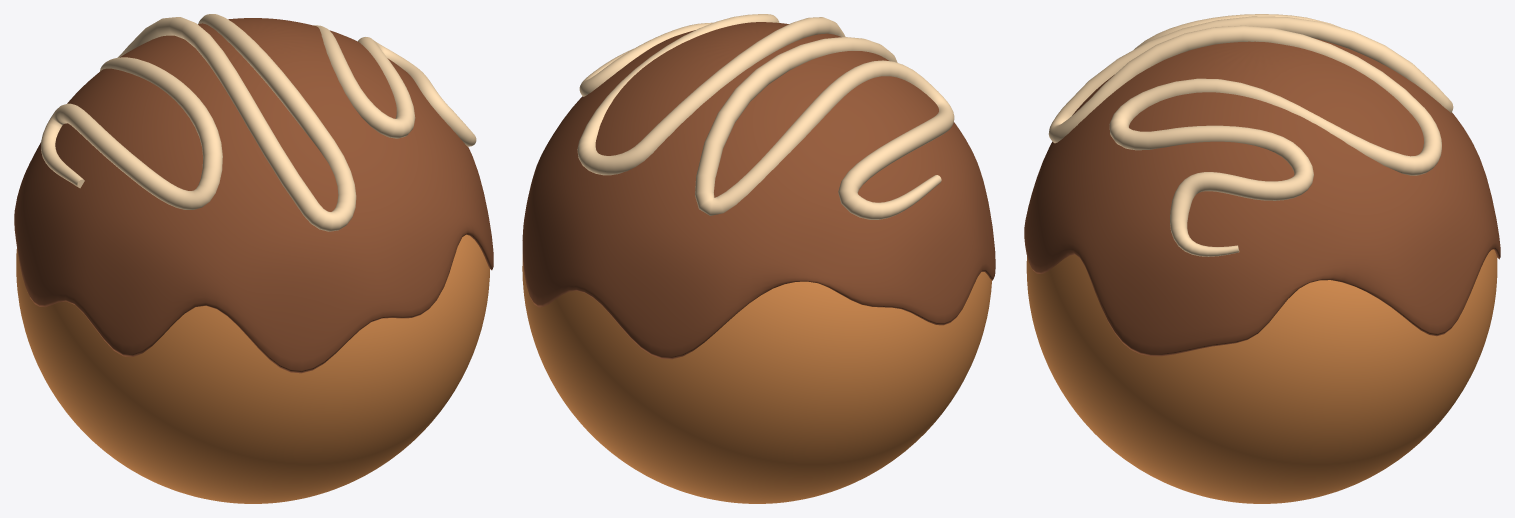
Rendered from takoyaki.glb.
The picture shows the model from 3 angles, left to right: view 1: azimuth 30°, elevation 25°; view 2: azimuth 150°, elevation 25°; view 3: azimuth 270°, elevation 25°; orthographic projection.
Visible parts, largest first — view 1: Top, Sphere, BézierCurve; view 2: Top, Sphere, BézierCurve; view 3: Top, Sphere, BézierCurve.
Part boxes in pixels (x1,y1,x2,y2): Top: [14, 18, 493, 373]; Sphere: [16, 234, 489, 503]; BézierCurve: [41, 14, 476, 231]; Top: [522, 22, 995, 359]; Sphere: [522, 254, 991, 503]; BézierCurve: [577, 14, 954, 219]; Top: [1024, 38, 1500, 356]; Sphere: [1026, 249, 1497, 503]; BézierCurve: [1048, 14, 1453, 256].
Bounding box in the file's own units: 0.9644 × 1.01 × 0.9655.
